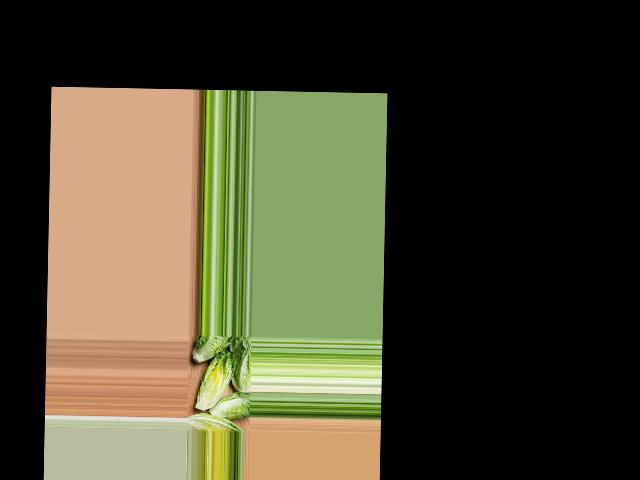lettuce: (187, 411, 243, 432)
